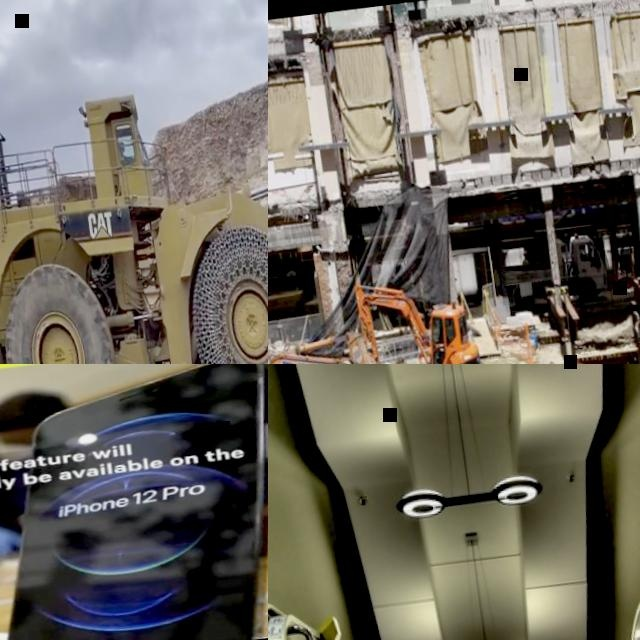Mask: (0, 438, 36, 461)
NO-Hardhat: (0, 384, 77, 435)
Person: (0, 380, 78, 567), (118, 139, 134, 161)
Safety Cone: (521, 321, 537, 364)
machinery: (0, 39, 268, 364), (351, 264, 493, 364), (491, 230, 611, 312)
